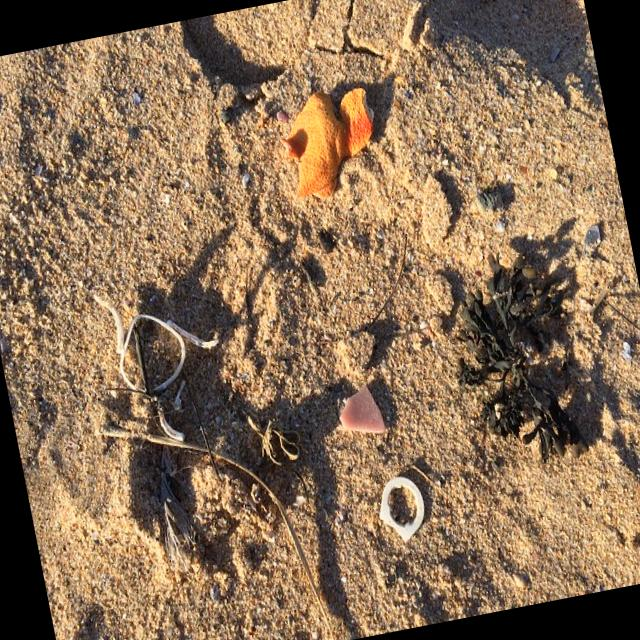Trash: (276, 84, 390, 204), (372, 472, 434, 550), (333, 384, 392, 446)
